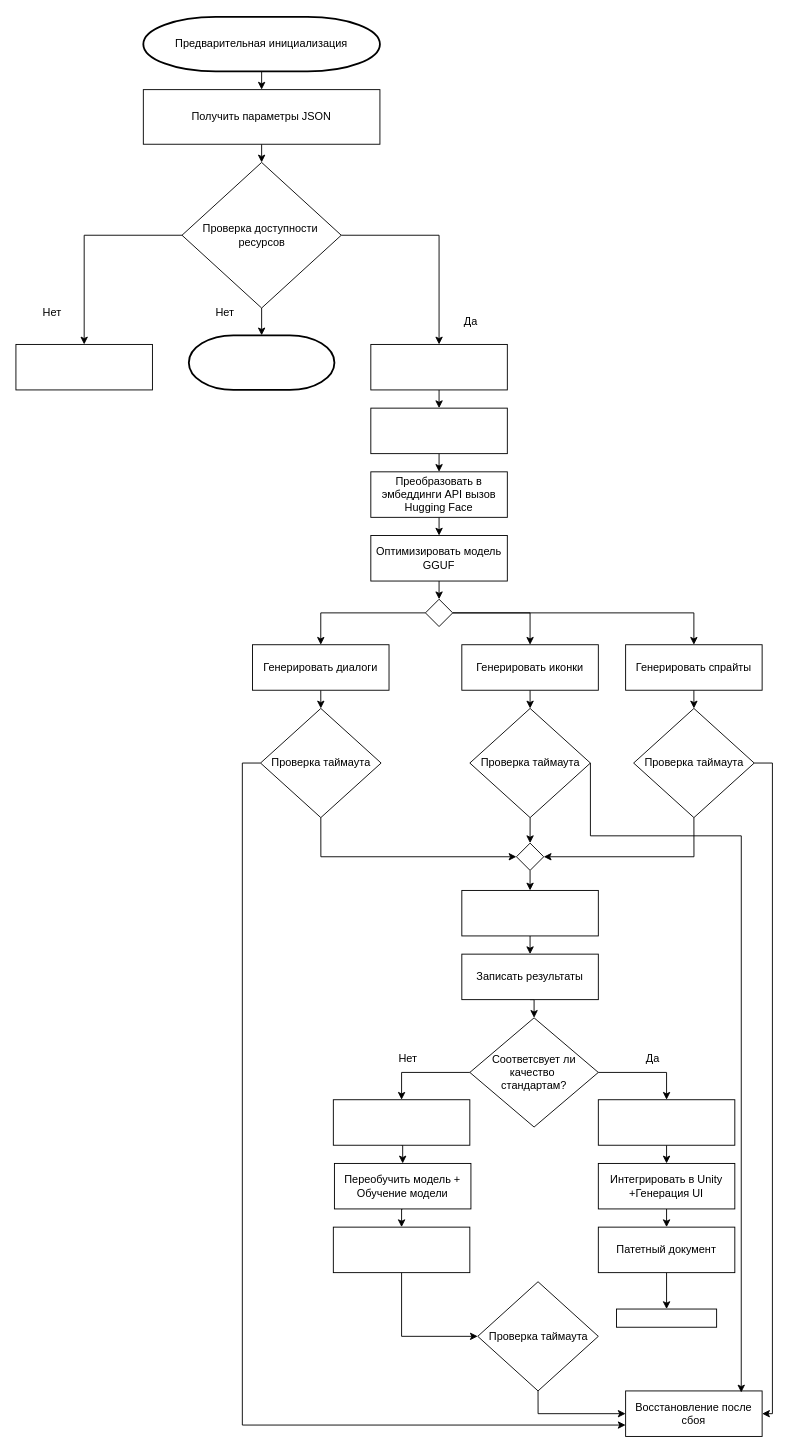
The diagram is 796 pixels wide and 1452 high, and some of its shapes have lost their labels. The box of each missing label's shape, as (x1, y1, x2, y2) in pixels:
Анализировать JSON: (370, 407, 507, 454)
Валидация данных: (370, 344, 507, 390)
Генерировать логику квестов: (332, 1226, 470, 1273)
Завершение: (616, 1308, 717, 1327)
Запрос обратной связи пользователя: (332, 1099, 470, 1145)
Обработка ошибок: (15, 344, 152, 390)
Прервать процесс: (187, 334, 335, 390)
Тестировать качество BLEU > 0,7, MSE < 0,1 Срок тестирования: (461, 890, 598, 936)
Финальная проверка: (597, 1099, 735, 1145)
